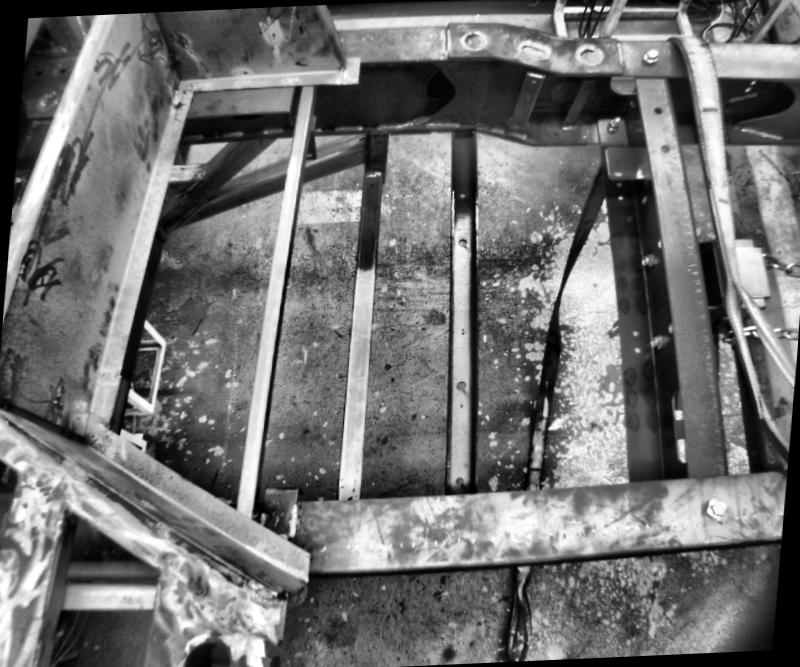bolt: (703, 497, 728, 519), (639, 48, 660, 68), (650, 334, 666, 350), (605, 117, 620, 134), (640, 252, 654, 268)
bracket: (257, 476, 311, 532), (554, 76, 594, 137), (507, 70, 543, 137), (599, 144, 654, 183), (302, 114, 325, 164)
hole: (179, 635, 238, 666), (452, 379, 468, 392), (453, 474, 464, 487), (629, 328, 641, 336), (652, 103, 662, 112), (660, 144, 670, 153), (458, 189, 466, 198), (457, 237, 466, 245), (632, 343, 639, 352), (368, 180, 375, 187), (306, 154, 314, 160), (614, 159, 620, 166), (357, 135, 362, 140)
